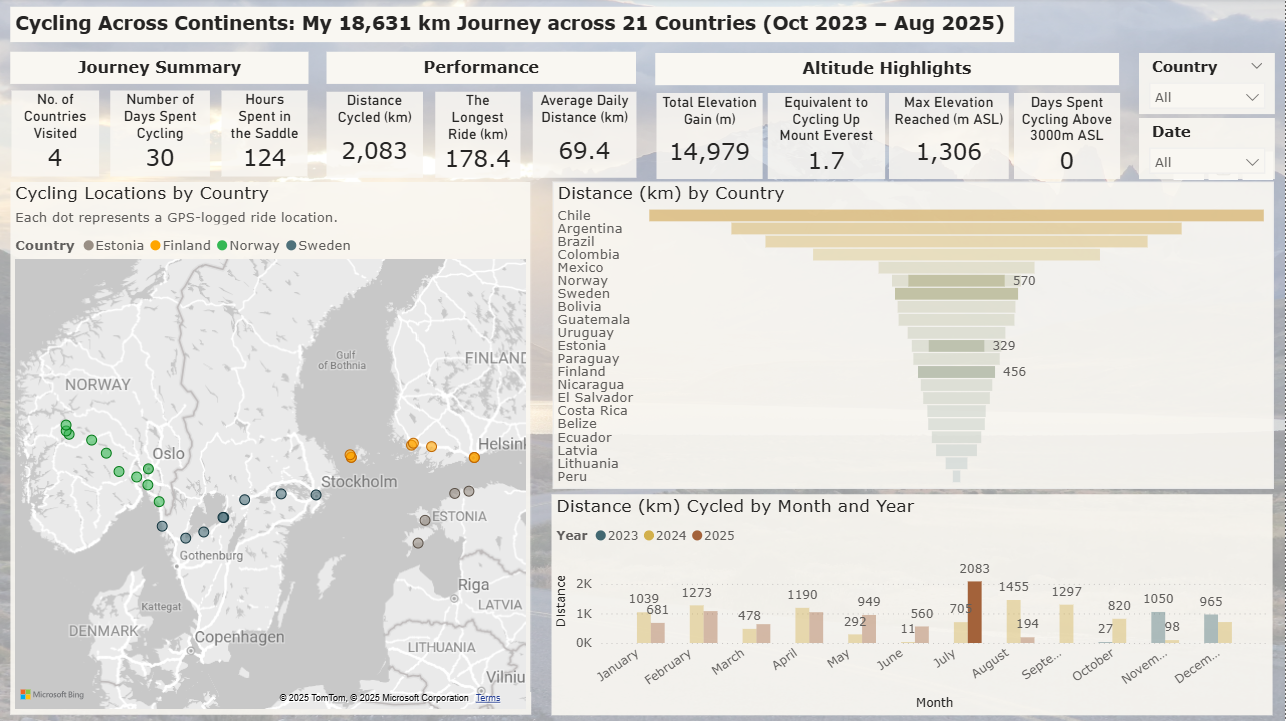

The dashboard page shown, as its layout file describes it:
{"tool":"powerbi","page":{"name":"Cycling Dashboard","canvas":[1280,720],"ordinal":0},"visuals":[{"type":"card","title":"Number of Days Spent Cycling","fields":{"Values":["Count(activities.Activity Date)"]},"box":[110.7,92.3,99.4,85.9],"z":0},{"type":"card","title":"Distance Cycled (km)","fields":{"Values":["Sum(activities.Distance)"]},"box":[326.4,92.7,95.7,85.9],"z":1000},{"type":"card","title":"Total Elevation Gain (m)","fields":{"Values":["Sum(activities.Distance)","Sum(activities.Elevation Gain)"]},"box":[654,94.5,105.5,85.9],"z":2000},{"type":"card","title":"Equivalent to Cycling Up Mount Everest","fields":{"Values":["Sum(activities.Distance)","Sum(activities.Elevation Gain)","select","select1"]},"box":[764.4,94.5,116.6,85.9],"z":3000},{"type":"card","title":"Hours Spent in the Saddle","fields":{"Values":["Sum(activities.Moving Time)","select"]},"box":[221.1,92.3,85.9,85.9],"z":4000},{"type":"map","title":"Cycling Locations by Country","fields":{"Y":["activities.latitude_deg"],"X":["activities.longitude_deg"],"Series":["activities.Country"]},"box":[11,182.8,517.8,530.1],"z":5000},{"type":"card","title":"Days Spent Cycling Above 3000m ASL","fields":{"Values":["Sum(activities.Moving Time)","Count(activities.Elevation High)","select","select1"]},"box":[1009.8,94.5,105.5,85.9],"z":6000},{"type":"clusteredColumnChart","title":"Distance (km) Cycled by Month and Year","fields":{"Category":["activities.Activity Date.Variation.Date Hierarchy.Month"],"Y":["Sum(activities.Distance)"],"Series":["activities.Activity Date.Variation.Date Hierarchy.Year"]},"box":[549.7,493.3,717.8,219.6],"z":7000},{"type":"card","title":"Max Elevation Reached (m ASL)","fields":{"Values":["Sum(activities.Moving Time)","Max(activities.Elevation High)"]},"box":[885.9,94.5,119,85.9],"z":8000},{"type":"card","title":"The Longest Ride (km)","fields":{"Values":["Sum(activities.Moving Time)","Max(activities.Distance)"]},"box":[434.4,92.7,84.7,85.9],"z":9000},{"type":"card","title":"Average Daily Distance (km)","fields":{"Values":["Sum(activities.Moving Time)","Avg(activities.Distance)"]},"box":[531.3,92.7,103.1,85.9],"z":10000},{"type":"funnel","title":"Distance (km) by Country","fields":{"Y":["Sum(activities.Distance)"],"Category":["activities.Country"]},"box":[550.9,182.8,717.8,305.5],"z":11000},{"type":"slicer","fields":{"Values":["activities.Country"]},"box":[1134.7,54.5,135.6,61],"z":12000},{"type":"card","title":"No. of Countries Visited","fields":{"Values":["Sum(activities.Moving Time)","Count(activities.Country)"]},"box":[12.5,92.3,87.1,85.9],"z":13000},{"type":"textbox","box":[11,54,296.9,31.9],"z":14000},{"type":"textbox","box":[326.4,54,308,31.9],"z":15000},{"type":"textbox","box":[653.5,54.2,461.4,31.9],"z":16000},{"type":"slicer","fields":{"Values":["activities.Activity Date.Variation.Date Hierarchy.Year","activities.Activity Date.Variation.Date Hierarchy.Month"]},"box":[1134.7,119.2,135.6,61],"z":17000},{"type":"textbox","box":[11.2,8.7,998.9,34.8],"z":18000}]}

Visuals, with their boxes in screenshot pixels (x1, y1, x2, y2), scaled from the page's 1280x720 canvas onto the 1286x721 screenshot:
"Number of Days Spent Cycling" card: x1=111, y1=92, x2=211, y2=178
"Distance Cycled (km)" card: x1=328, y1=93, x2=424, y2=179
"Total Elevation Gain (m)" card: x1=657, y1=95, x2=763, y2=181
"Equivalent to Cycling Up Mount Everest" card: x1=768, y1=95, x2=885, y2=181
"Hours Spent in the Saddle" card: x1=222, y1=92, x2=308, y2=178
"Cycling Locations by Country" map: x1=11, y1=183, x2=531, y2=714
"Days Spent Cycling Above 3000m ASL" card: x1=1015, y1=95, x2=1121, y2=181
"Distance (km) Cycled by Month and Year" clusteredColumnChart: x1=552, y1=494, x2=1273, y2=714
"Max Elevation Reached (m ASL)" card: x1=890, y1=95, x2=1010, y2=181
"The Longest Ride (km)" card: x1=436, y1=93, x2=522, y2=179
"Average Daily Distance (km)" card: x1=534, y1=93, x2=637, y2=179
"Distance (km) by Country" funnel: x1=553, y1=183, x2=1275, y2=489
slicer - activities.Country: x1=1140, y1=55, x2=1276, y2=116
"No. of Countries Visited" card: x1=13, y1=92, x2=100, y2=178
textbox: x1=11, y1=54, x2=309, y2=86
textbox: x1=328, y1=54, x2=637, y2=86
textbox: x1=657, y1=54, x2=1120, y2=86
slicer - activities.Activity Date.Variation.Date Hierarchy.Year x activities.Activity Date.Variation.Date Hierarchy.Month: x1=1140, y1=119, x2=1276, y2=180
textbox: x1=11, y1=9, x2=1015, y2=44
